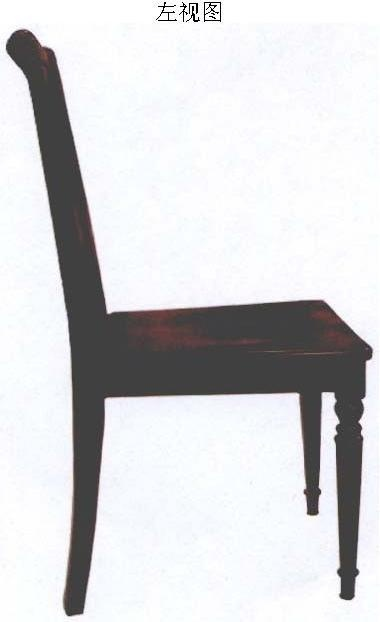obstacle: (7, 30, 371, 614)
